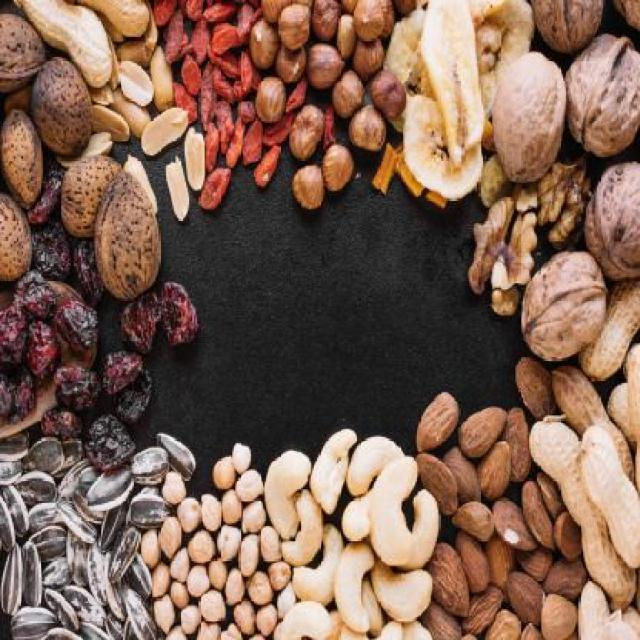Frutta secca: (501, 7, 640, 343), (1, 13, 164, 298), (3, 262, 208, 453), (518, 344, 639, 640), (427, 407, 580, 640), (0, 440, 175, 637), (262, 11, 412, 227), (271, 449, 432, 640), (144, 483, 276, 639)
